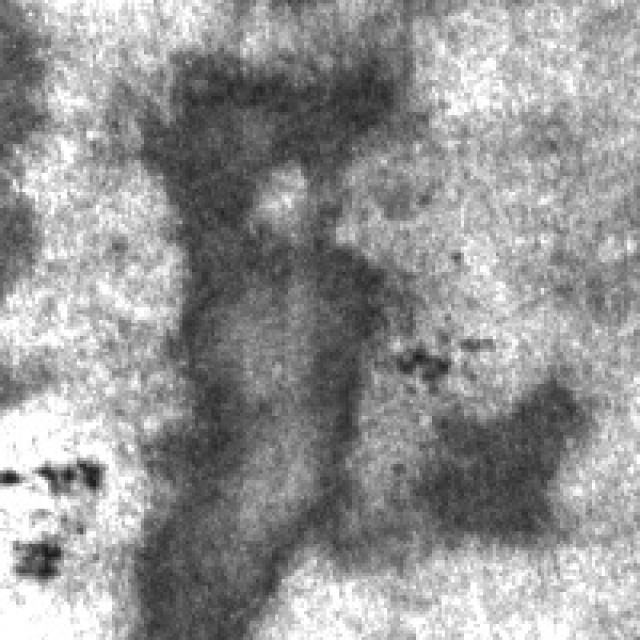patches: (132, 35, 390, 630), (419, 349, 602, 560)
